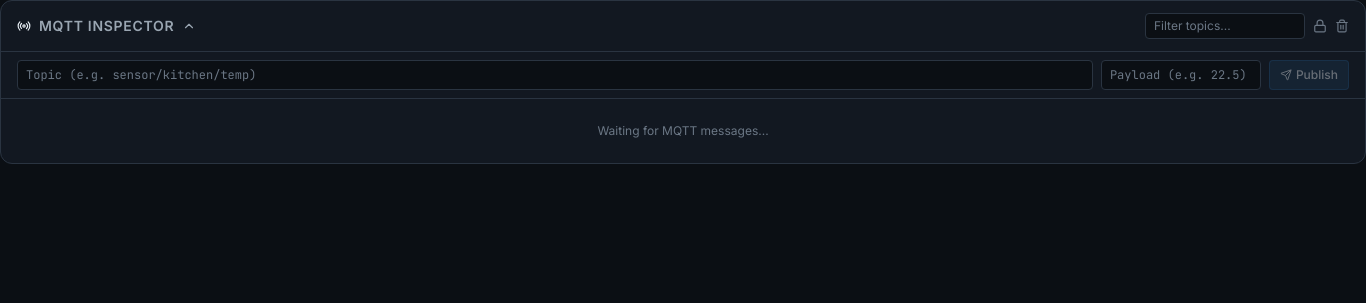
MqttInspector › private topics › lets an admin open the privacy panel and see filters
Click the button titled "Manage private topics": (1320, 26) top-left (1313, 19), bottom-right (1327, 33)
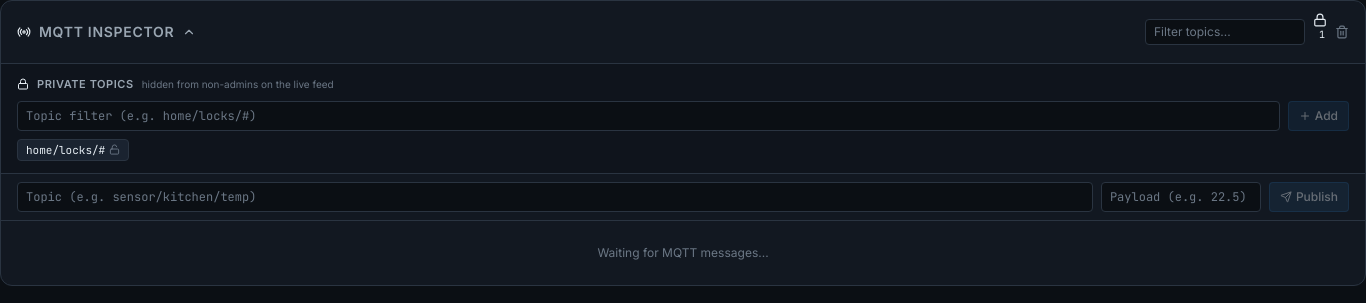
Now the text "Private topics" is shown, box top-left (37, 76), bottom-right (134, 92)
Now the text "home/locks/#" is shown, box top-left (17, 138), bottom-right (129, 161)
